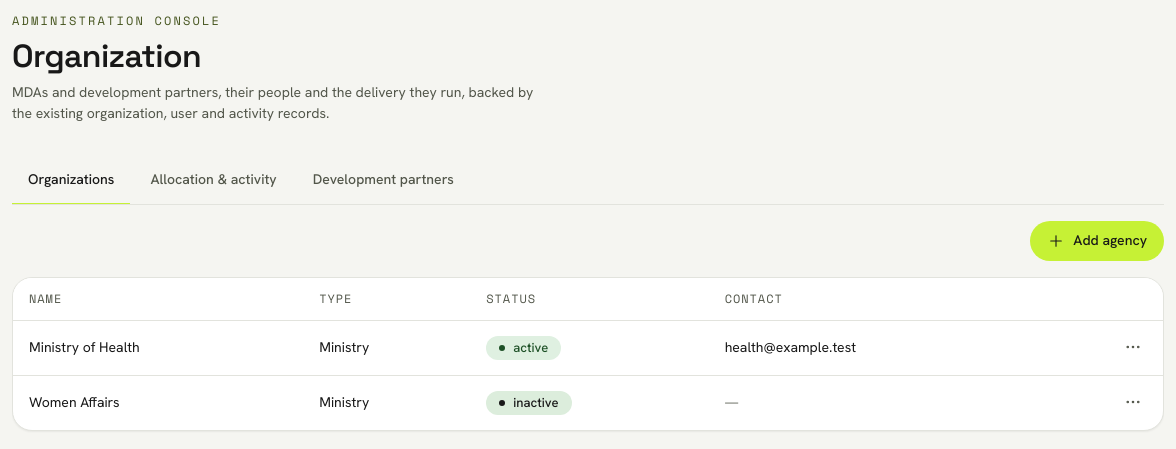
Test: Admin console — Organization (composes Phase 1 + Phase 4) › shows development partners with the delivery they fund
The width and height of the screenshot is (1176, 449).
Expected: the text "Ministry of Health" is shown, [13, 321, 303, 376]
What coordinates should you click on to do the following:
click the tab "Development partners"
I would click on:
 (383, 181)
Its box is [297, 157, 470, 205].
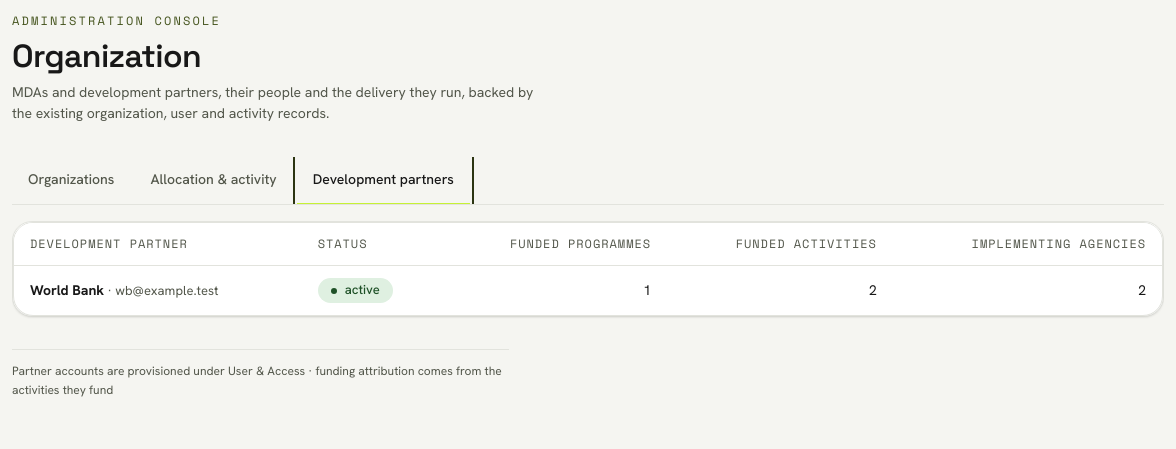
Result: the text "World Bank" is shown at [30, 281, 104, 299]
Result: the column heading "Funded programmes" is shown at [441, 223, 667, 266]
Result: the column heading "Implementing agencies" is shown at [893, 223, 1162, 266]
